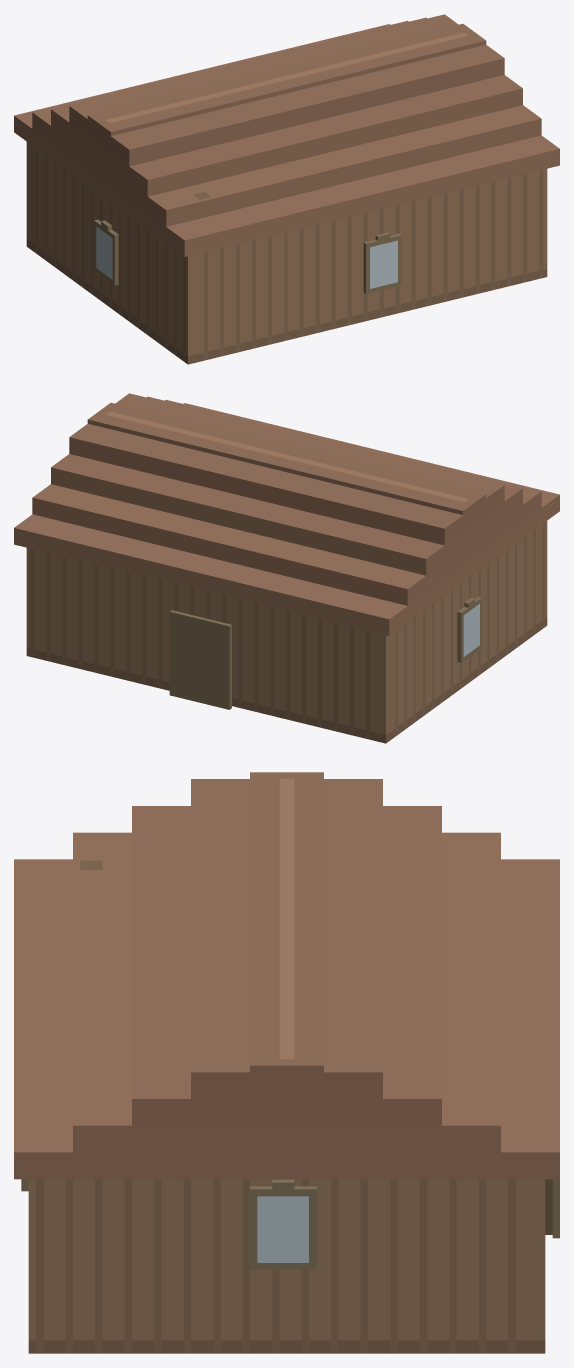
The model's file is curtiduria_01.glb.
The picture shows the model from 3 angles, top to bottom: view 1: azimuth 30°, elevation 25°; view 2: azimuth 150°, elevation 25°; view 3: azimuth 270°, elevation 25°; orthographic projection. The views are drawn at different scales.
Visible parts, largest first — view 1: curtiduria_01; view 2: curtiduria_01; view 3: curtiduria_01.
Boxes of the visible parts, box(x1,y1,x2,y2) form: curtiduria_01: box(14, 14, 559, 364); curtiduria_01: box(14, 393, 559, 743); curtiduria_01: box(14, 772, 559, 1353).
Bounding box in the file's own units: 9.4 × 4.4 × 7.4.
